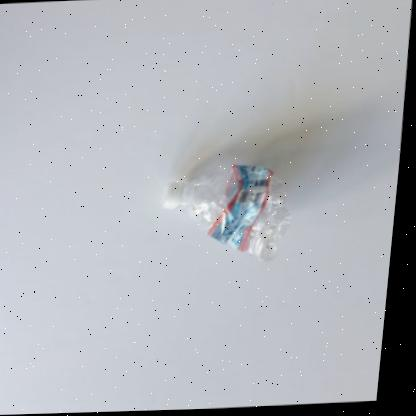Plastic: (165, 166, 294, 263)
